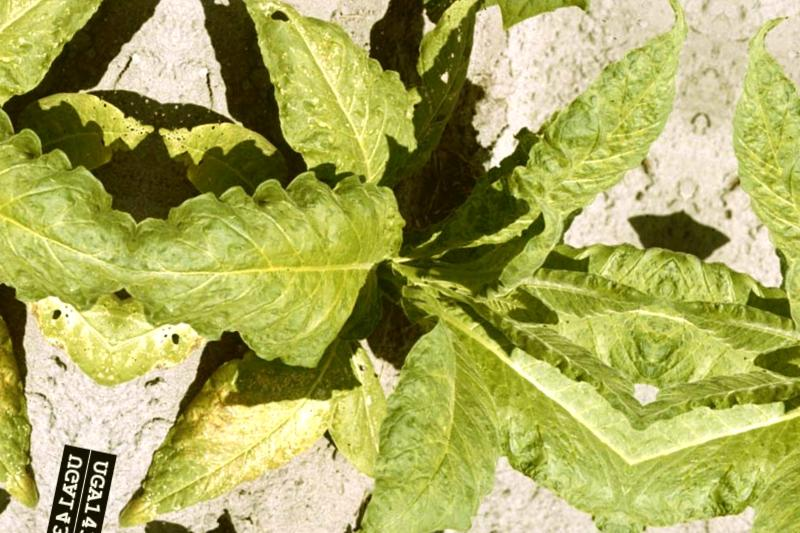Tomato leaf mosaic virus: (430, 0, 699, 300), (114, 132, 412, 386), (226, 0, 463, 192), (342, 322, 509, 533)
